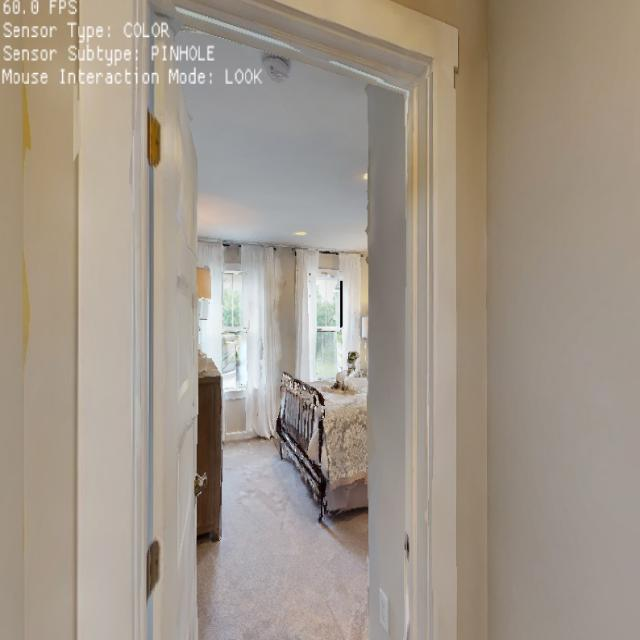bed: (265, 347, 370, 520)
door-frame: (72, 0, 462, 640)
